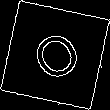O_SE: (23, 22, 87, 88)
